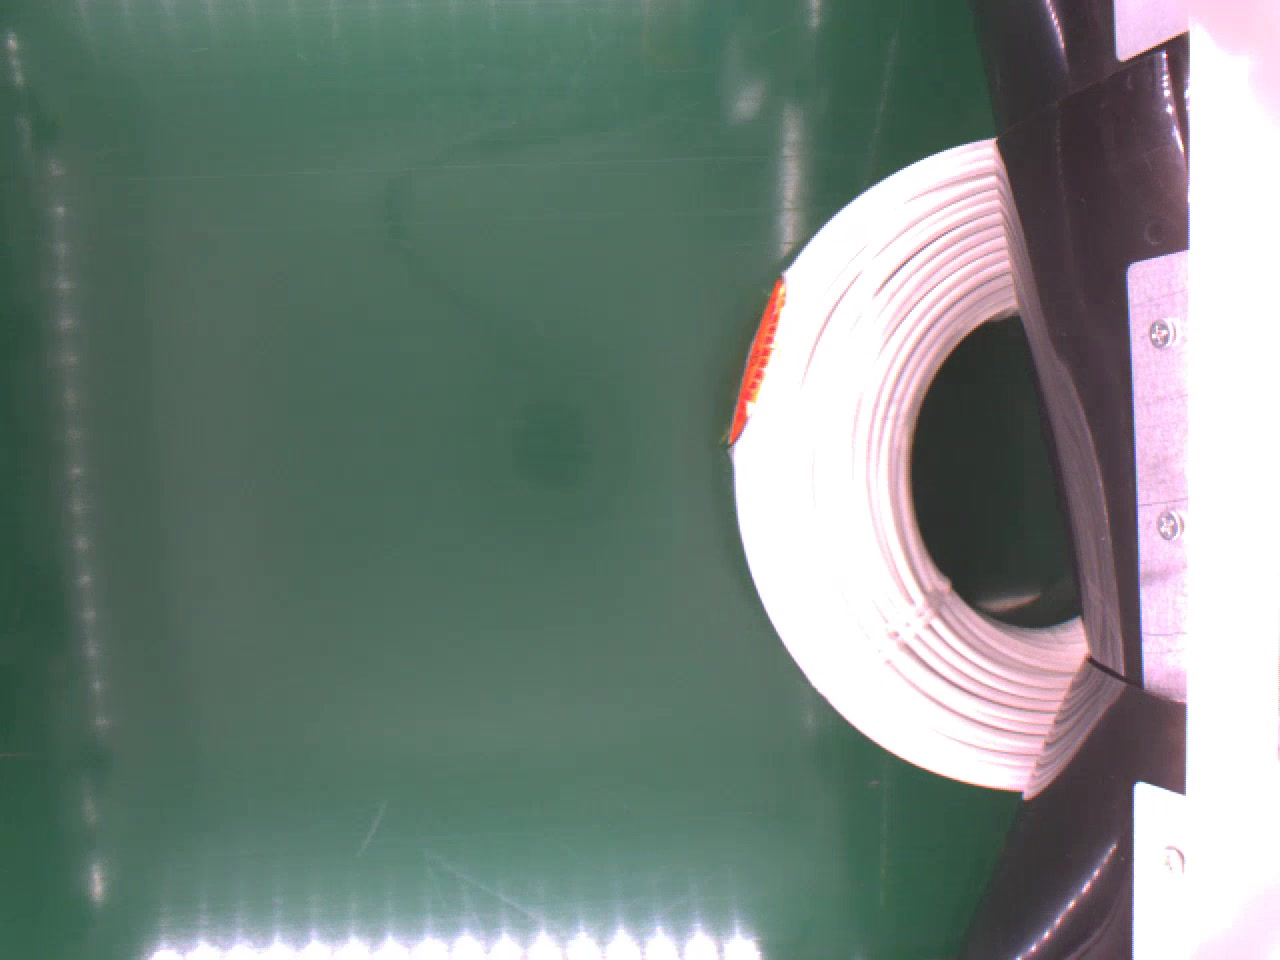white: (724, 132, 1090, 796)
